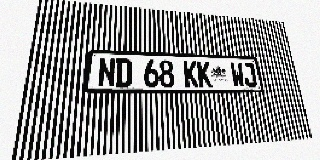6: (144, 59, 159, 87)
8: (159, 60, 175, 87)
D: (115, 58, 132, 87)
J: (242, 63, 258, 87)
K: (183, 61, 199, 87), (197, 61, 212, 87)
N: (98, 58, 115, 87)
W: (230, 62, 245, 87)
